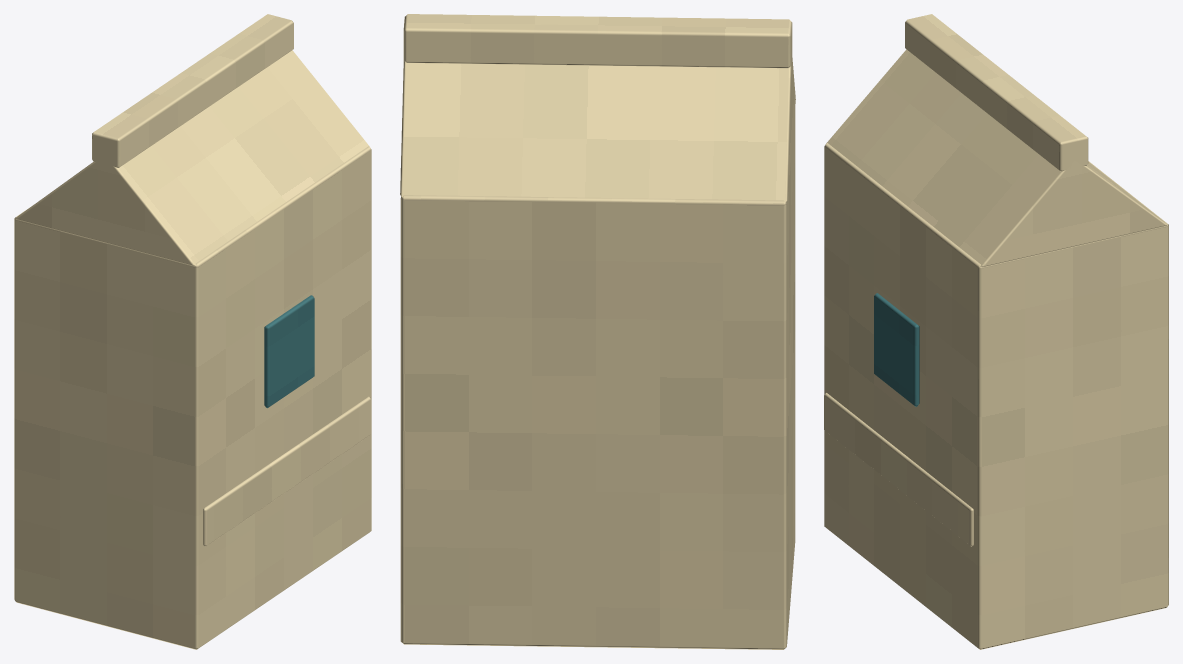
Rendered from CreamWashBox.glb.
3 views of the same model, side by side, from view 1: azimuth 30°, elevation 25°; view 2: azimuth 150°, elevation 25°; view 3: azimuth 270°, elevation 25° (orthographic). The views are drawn at different scales.
Visible parts, largest first — view 1: CreamWashBox.Carton, CreamWashBox.Gable-fold, CreamWashBox.Top-seam, CreamWashBox.Band, CreamWashBox.Badge; view 2: CreamWashBox.Carton, CreamWashBox.Gable-fold, CreamWashBox.Top-seam; view 3: CreamWashBox.Carton, CreamWashBox.Gable-fold, CreamWashBox.Top-seam, CreamWashBox.Band, CreamWashBox.Badge.
Boxes of the visible parts, <box> form: CreamWashBox.Carton: <box>14,146,371,649</box>; CreamWashBox.Gable-fold: <box>16,50,370,265</box>; CreamWashBox.Top-seam: <box>92,14,293,167</box>; CreamWashBox.Band: <box>203,396,371,546</box>; CreamWashBox.Badge: <box>264,295,314,408</box>; CreamWashBox.Carton: <box>400,108,795,649</box>; CreamWashBox.Gable-fold: <box>400,51,795,202</box>; CreamWashBox.Top-seam: <box>403,14,792,68</box>; CreamWashBox.Carton: <box>824,143,1168,649</box>; CreamWashBox.Gable-fold: <box>826,49,1167,266</box>; CreamWashBox.Top-seam: <box>905,14,1088,171</box>; CreamWashBox.Band: <box>824,393,973,546</box>; CreamWashBox.Badge: <box>874,293,919,406</box>.
Size of the model in its own units: 0.2157 by 0.298 by 0.1899.
2 materials, 2 textured.
